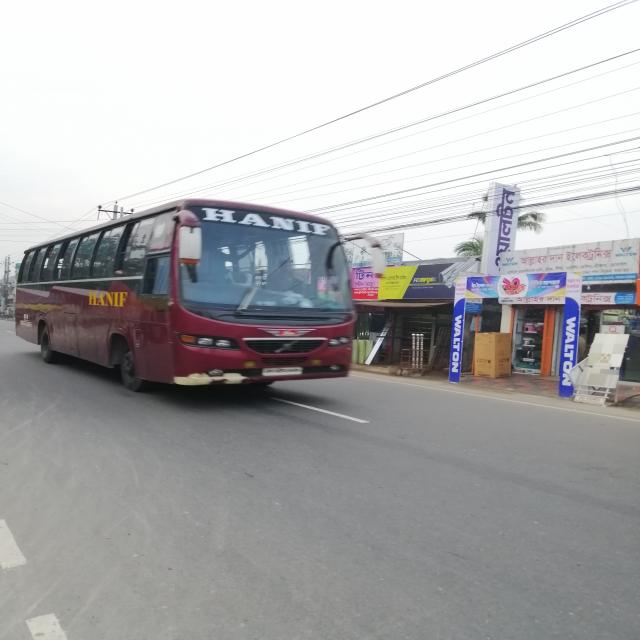Bus: (1, 193, 377, 410)
